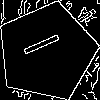I: (21, 26, 70, 58)
